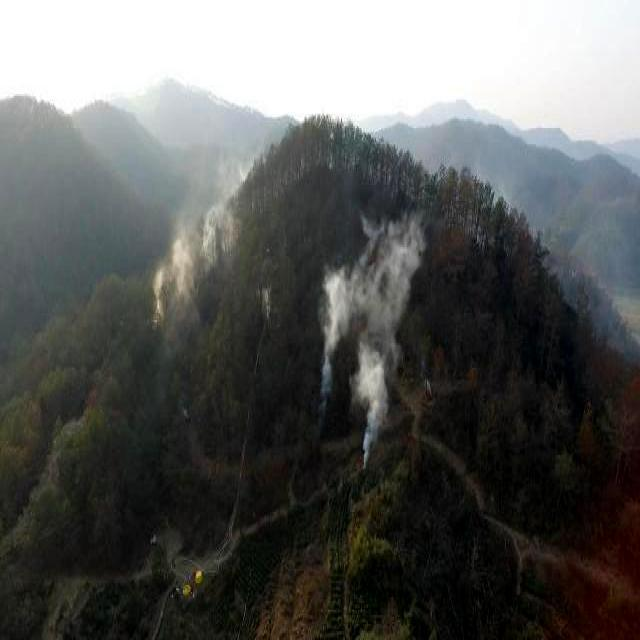Smoke: (302, 196, 424, 456), (138, 126, 265, 347)
